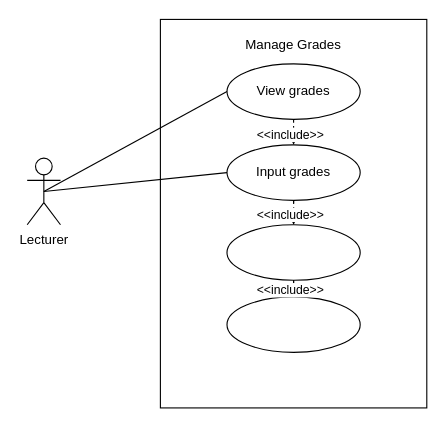
This 446x427 diagram has some shape labels left out. The shapes that lost their labels are listed below. From the top down, each one's centre as x and y in pixels, then its label:
At [293,252]: "Update grades".
At [293,324]: "Save grades".
